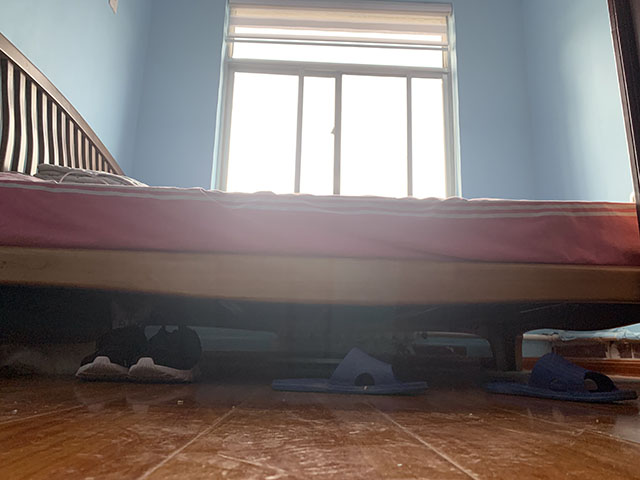bed: (1, 32, 640, 375)
slippers: (482, 352, 639, 404), (269, 345, 429, 396)
